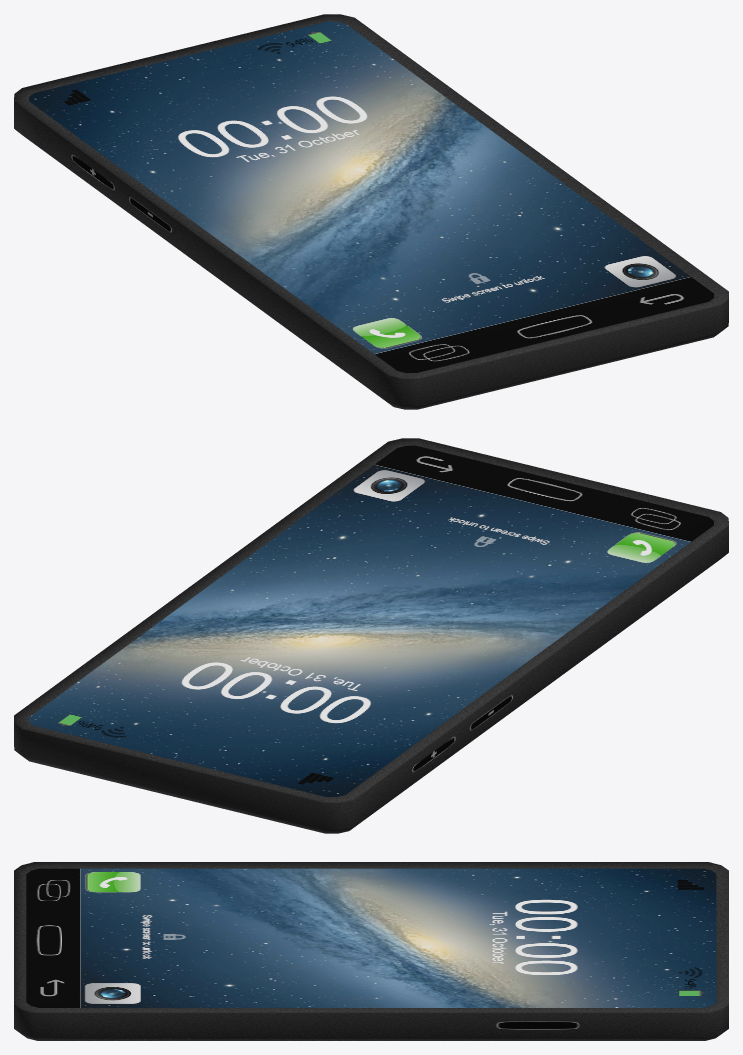
The model's file is Smartphone.FBX.
The picture shows the model from 3 angles, top to bottom: view 1: azimuth 30°, elevation 25°; view 2: azimuth 150°, elevation 25°; view 3: azimuth 270°, elevation 25°; orthographic projection. The views are drawn at different scales.
Parts seen in each view (by area): view 1: smartphone01; view 2: smartphone01; view 3: smartphone01.
Boxes of the visible parts, box(x1,y1,x2,y2) form: smartphone01: box(14, 14, 728, 409); smartphone01: box(14, 438, 728, 833); smartphone01: box(14, 862, 728, 1040).
Size of the model in its own units: 2.8 by 0.2776 by 5.63.
1 material, 1 textured.
